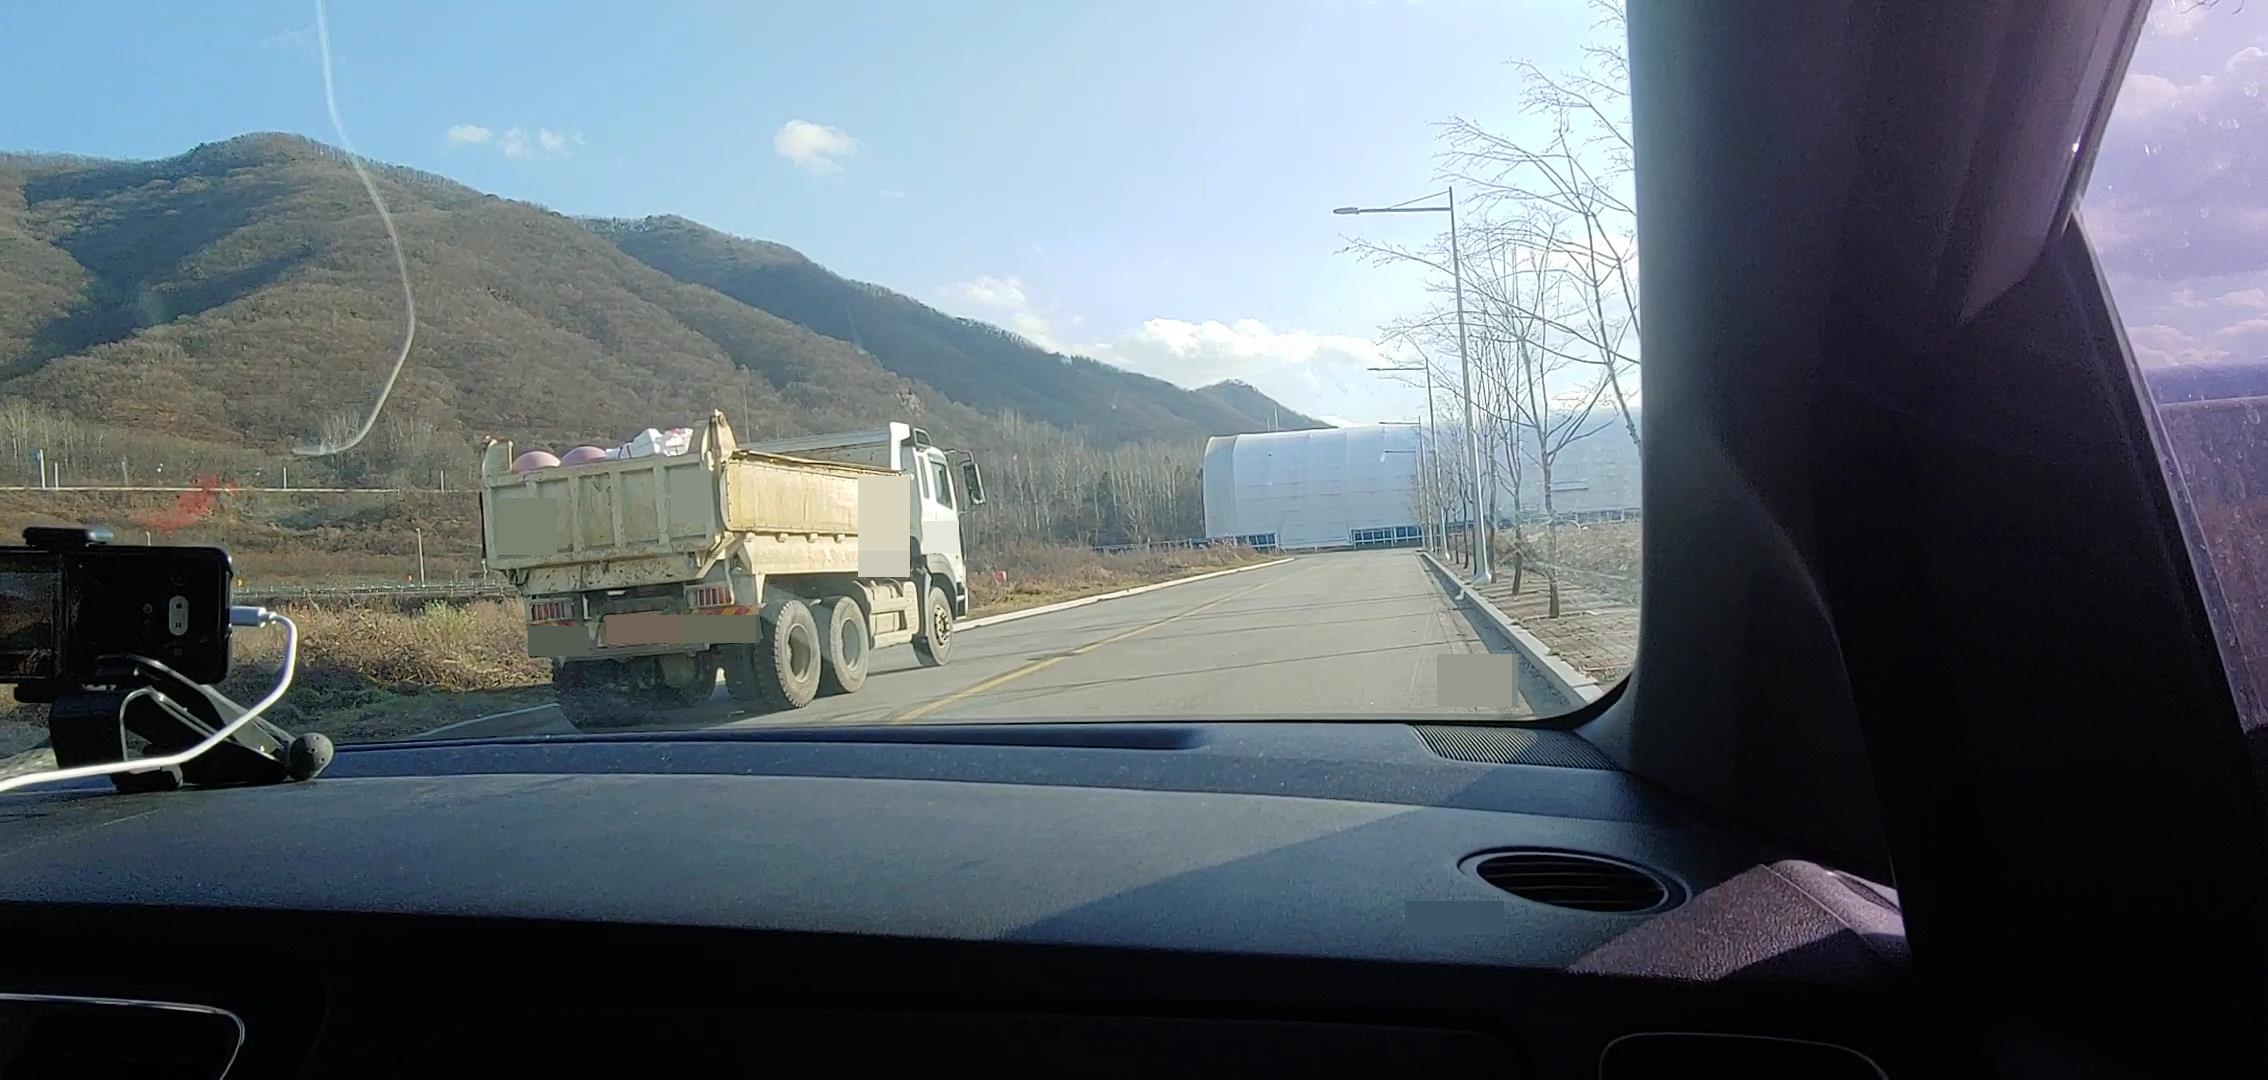불법차량: (477, 406, 989, 734)
